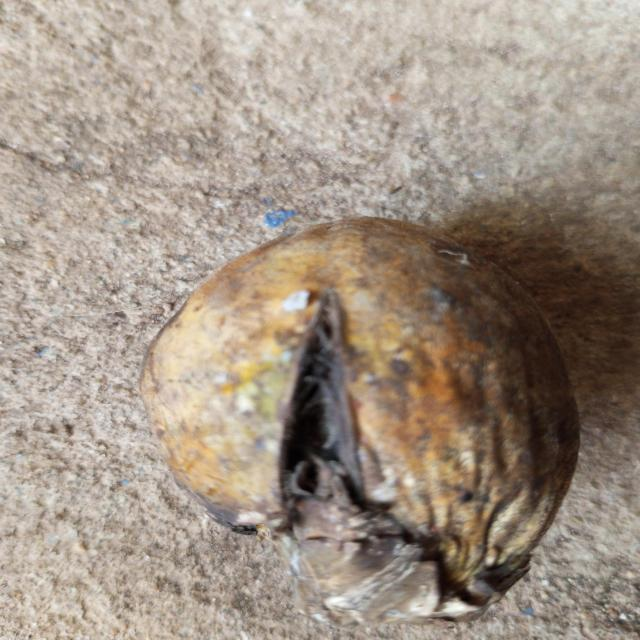damaged: (138, 217, 581, 626)
